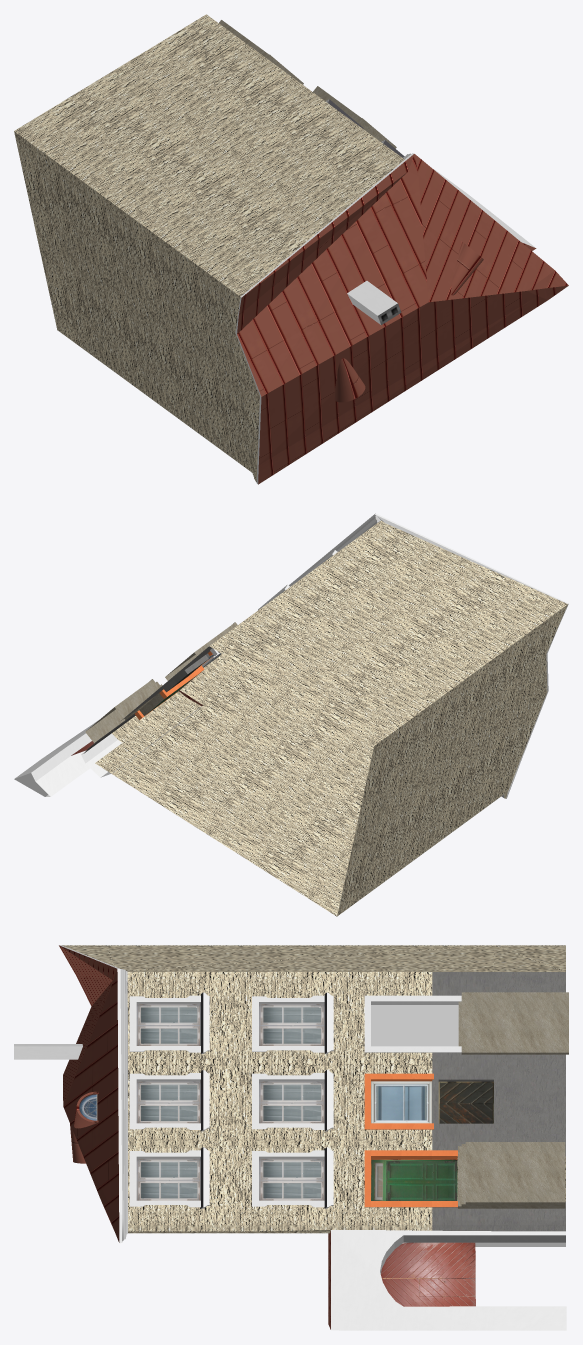
Rendered from Voorimehe_5.obj.
3 renders of one model, top to bottom at view 1: azimuth 30°, elevation 25°; view 2: azimuth 150°, elevation 25°; view 3: azimuth 270°, elevation 25°, orthographic. The views are drawn at different scales.
Parts seen in each view (by area): view 1: Voorimehe_5; view 2: Voorimehe_5; view 3: Voorimehe_5.
Part boxes in pixels (x1,y1,x2,y2): Voorimehe_5: [14, 14, 568, 484]; Voorimehe_5: [14, 513, 568, 916]; Voorimehe_5: [14, 945, 568, 1330].
Bounding box in the file's own units: 15.9 × 10.65 × 16.31.
